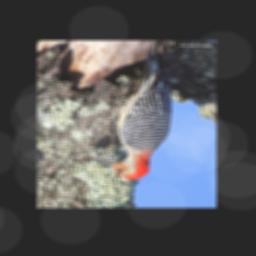Woodpecker: (94, 49, 174, 181)
